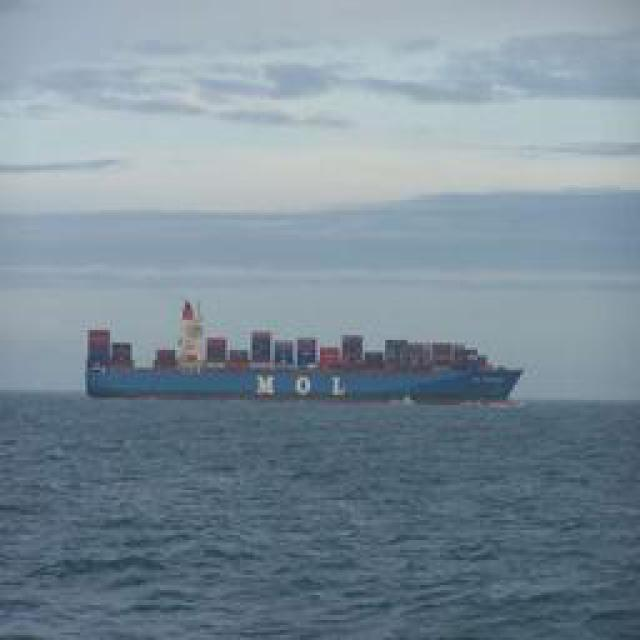Ship: (84, 302, 527, 405)
